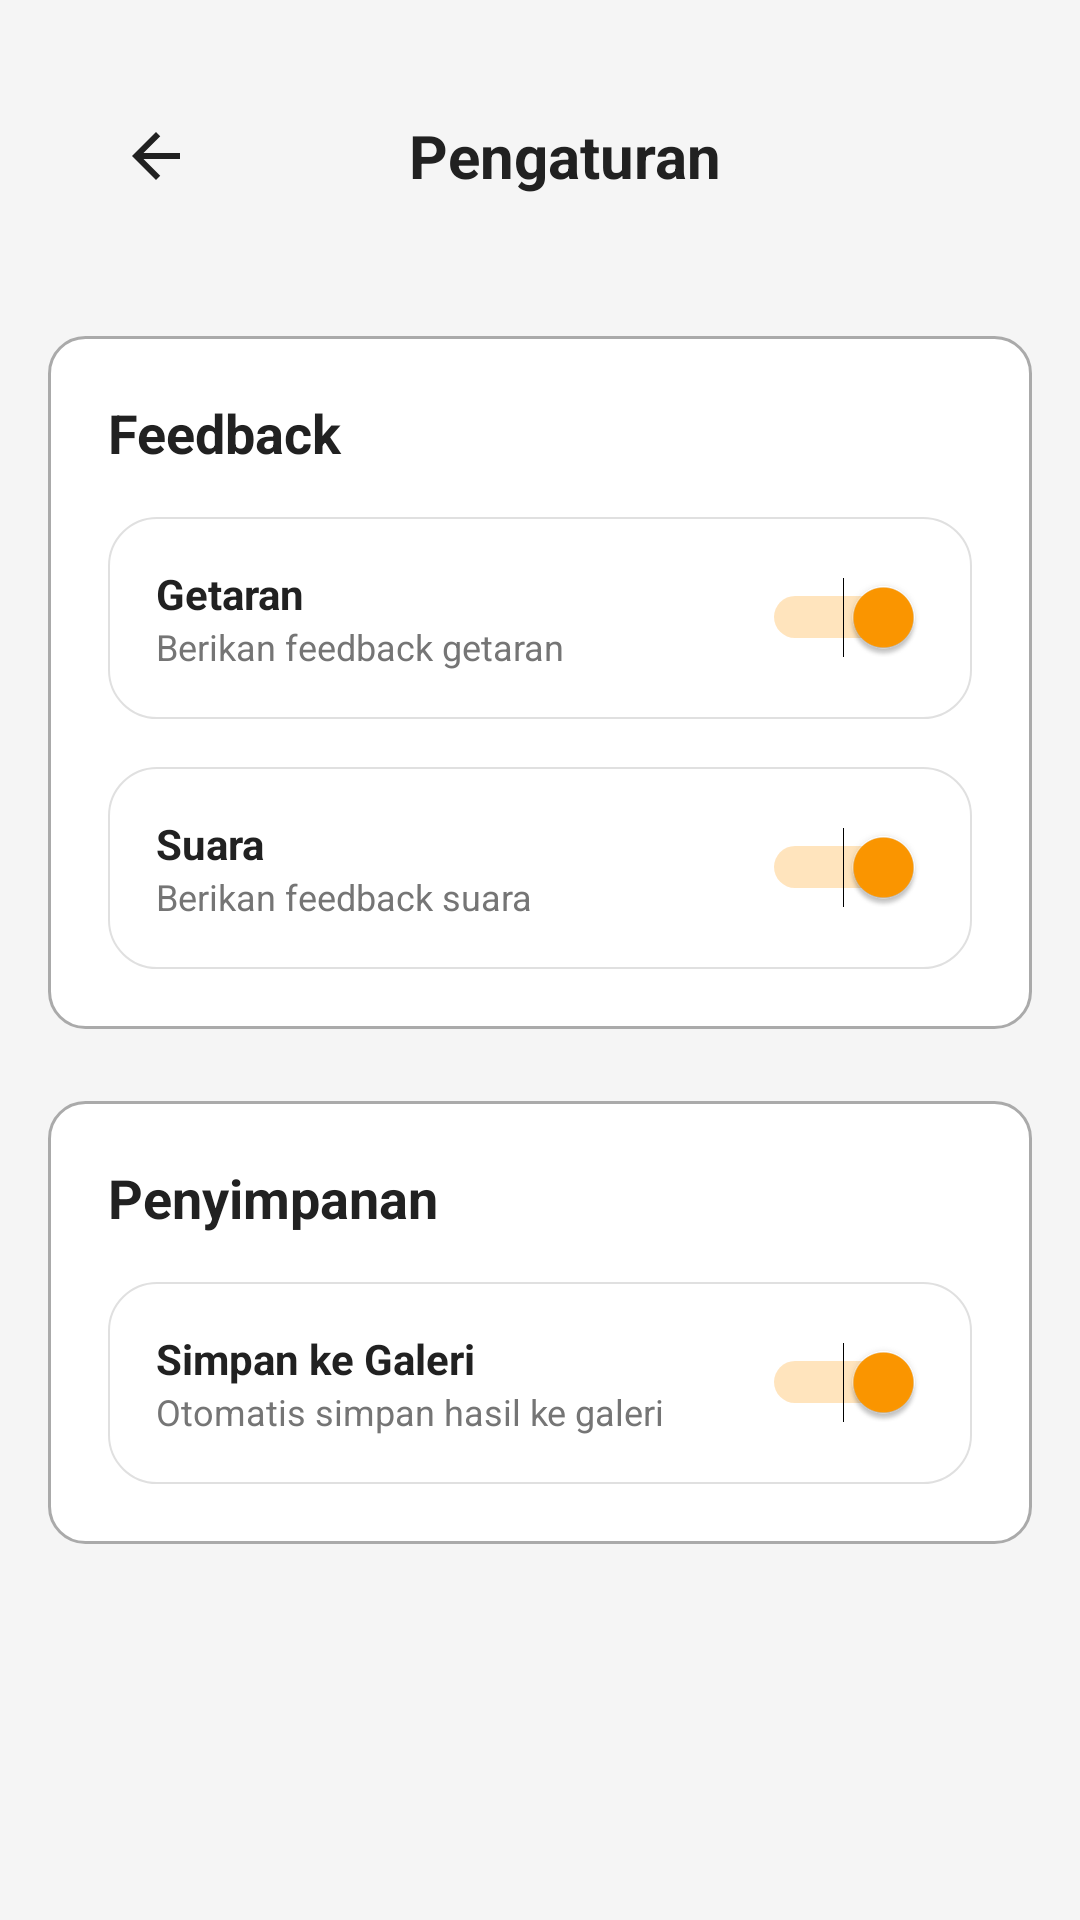

Named icons in this screenshot (1080px x 1920px) and their centers, point (x, y):
arrow back: point (156, 156)
